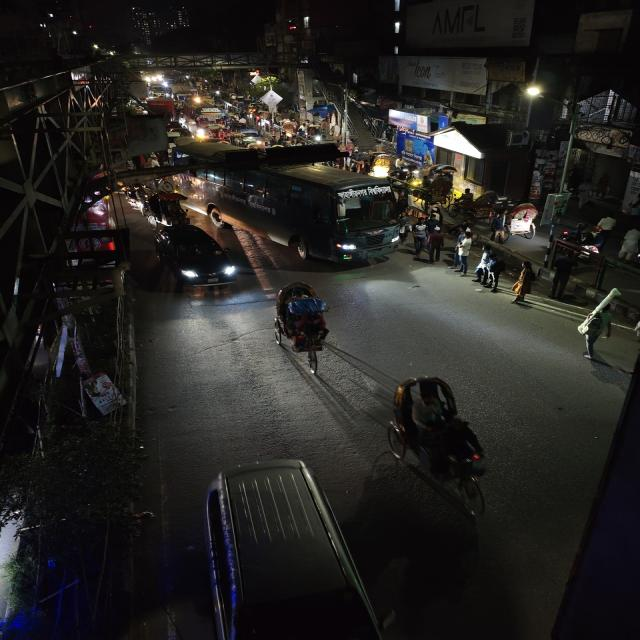bus: (200, 160, 405, 263), (189, 106, 226, 138)
car: (188, 452, 385, 640), (150, 222, 240, 295)
motorcycle: (377, 370, 505, 512)
pedestrian: (572, 304, 621, 361), (547, 254, 578, 300), (511, 262, 539, 304), (616, 227, 640, 263), (408, 221, 429, 255), (487, 258, 507, 292), (426, 228, 445, 262), (452, 243, 472, 275), (595, 170, 612, 200), (489, 213, 506, 243), (595, 214, 617, 237), (473, 265, 488, 286)
rickshaw: (380, 368, 505, 512), (268, 278, 346, 376), (142, 190, 193, 224), (504, 202, 541, 240)
